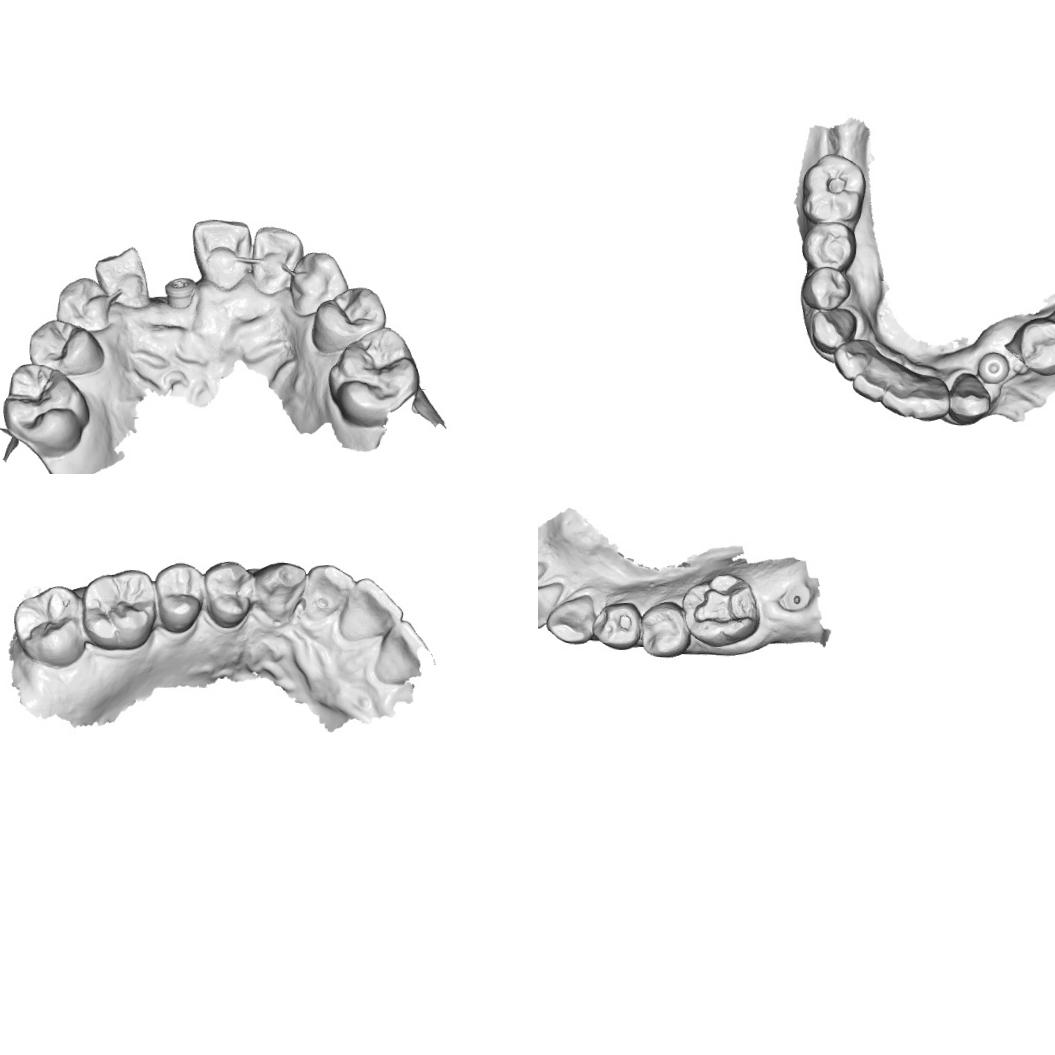canine: (286, 246, 348, 320), (89, 242, 150, 311), (251, 558, 309, 624), (543, 591, 597, 646), (946, 370, 993, 426), (808, 304, 858, 354)
implant: (775, 579, 814, 614), (974, 349, 1010, 386), (161, 272, 196, 307)
incisor: (336, 574, 406, 645), (188, 216, 253, 292), (245, 224, 307, 296), (368, 616, 428, 688), (301, 562, 357, 625), (831, 336, 875, 382), (910, 376, 951, 423), (850, 360, 894, 402), (878, 375, 916, 418), (538, 578, 565, 631)
inlay: (686, 578, 758, 631)
molar: (323, 322, 418, 426), (1, 361, 92, 456), (9, 580, 88, 672), (80, 563, 158, 652), (800, 150, 868, 226)
premolar: (307, 280, 395, 356), (25, 316, 101, 378), (150, 559, 207, 636), (201, 558, 256, 630), (51, 274, 114, 334), (636, 598, 692, 661), (588, 598, 643, 652), (800, 218, 857, 270), (1015, 316, 1055, 378), (800, 266, 852, 312)
